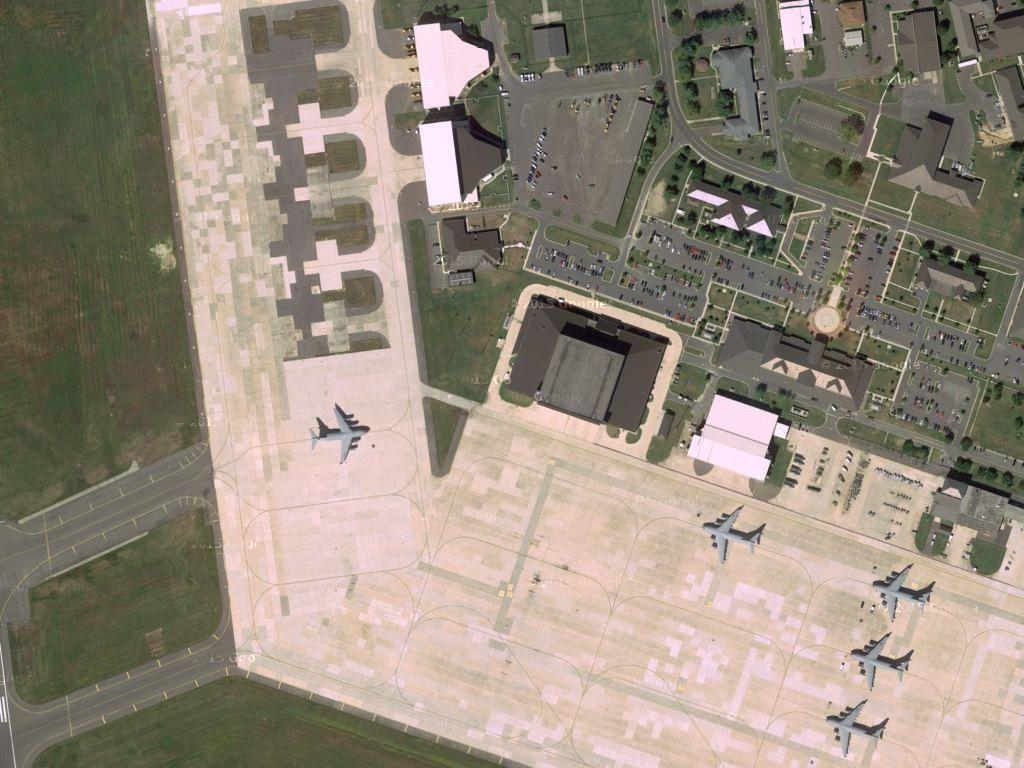C-17: (842, 631, 917, 690), (303, 406, 375, 467), (823, 696, 892, 758), (700, 502, 768, 564), (869, 560, 936, 619)
